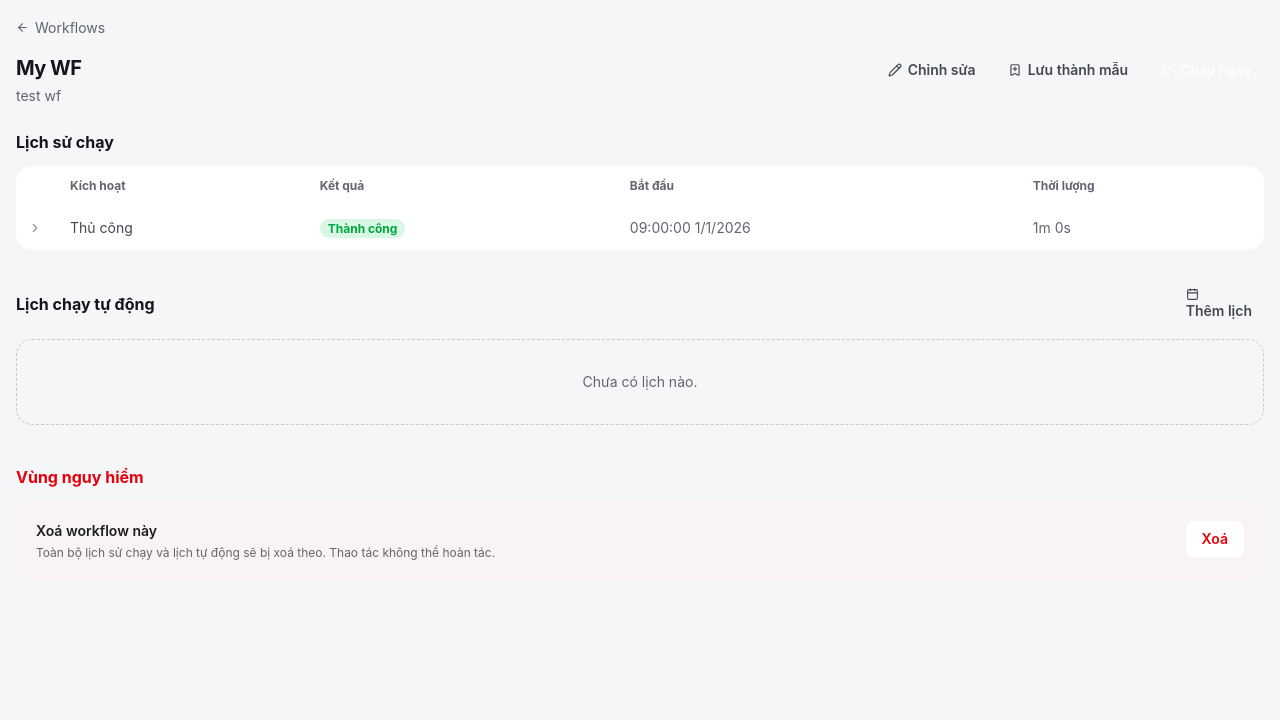
WorkflowDetailClient — expand run → steps › clicking run row fetches and shows steps
Expected: the text "Thủ công" is shown, [54,206,304,250]
// Click the row to expand
Click the text "Thủ công" at (640, 228), box [16,206,1264,250]
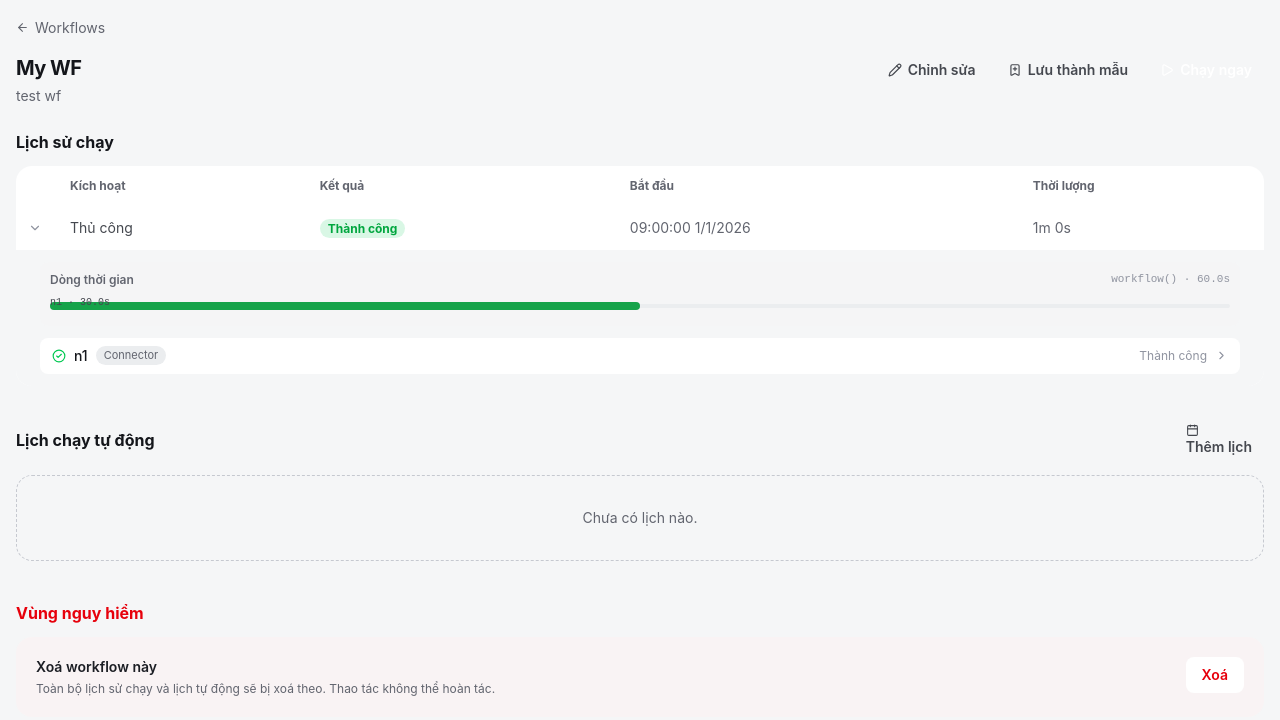
Expected: the list named "run steps" is shown, [40,338,1240,374]
Expected: the text "n1" is shown, [74,346,88,366]
